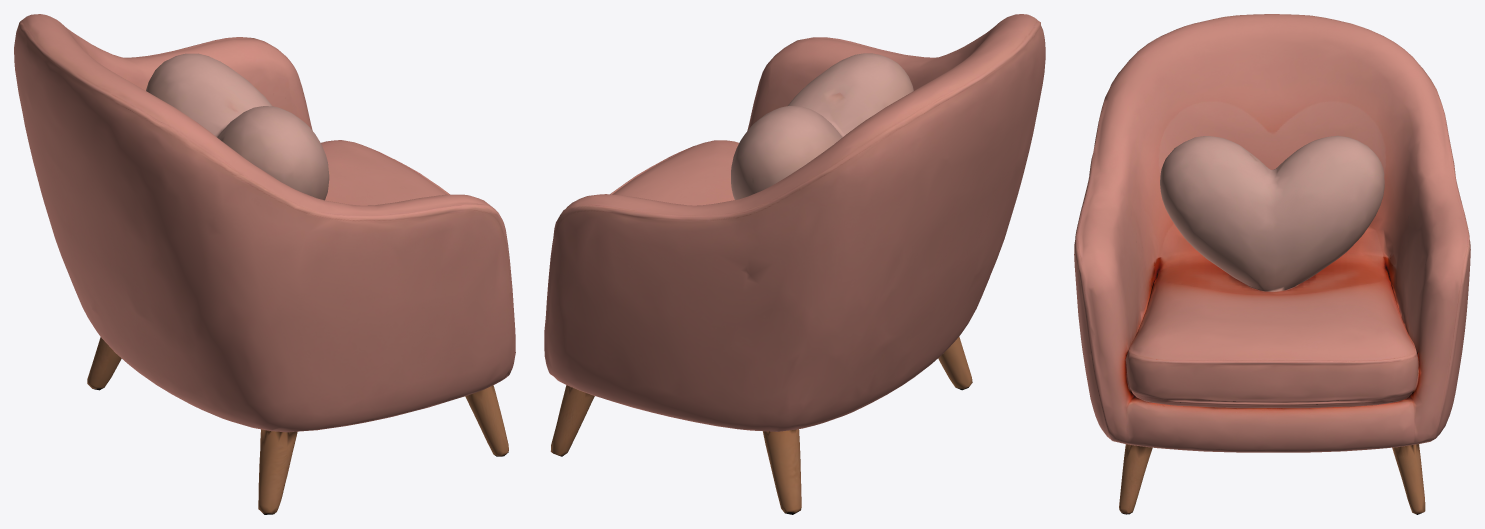
Rendered from pink-armchair.glb.
The picture shows the model from 3 angles, left to right: view 1: azimuth 30°, elevation 25°; view 2: azimuth 150°, elevation 25°; view 3: azimuth 270°, elevation 25°; orthographic projection. The views are drawn at different scales.
Parts seen in each view (by area): view 1: tripo_node_e9e637be-3e7e-4bbd-a722-f79af6262ce7; view 2: tripo_node_e9e637be-3e7e-4bbd-a722-f79af6262ce7; view 3: tripo_node_e9e637be-3e7e-4bbd-a722-f79af6262ce7.
Boxes of the visible parts, <box> form: tripo_node_e9e637be-3e7e-4bbd-a722-f79af6262ce7: <box>14,14,515,514</box>; tripo_node_e9e637be-3e7e-4bbd-a722-f79af6262ce7: <box>544,14,1045,514</box>; tripo_node_e9e637be-3e7e-4bbd-a722-f79af6262ce7: <box>1074,14,1470,514</box>.
Bounding box in the file's own units: 0.967 × 0.9955 × 1.
Materials: 1 (1 with a texture image).
